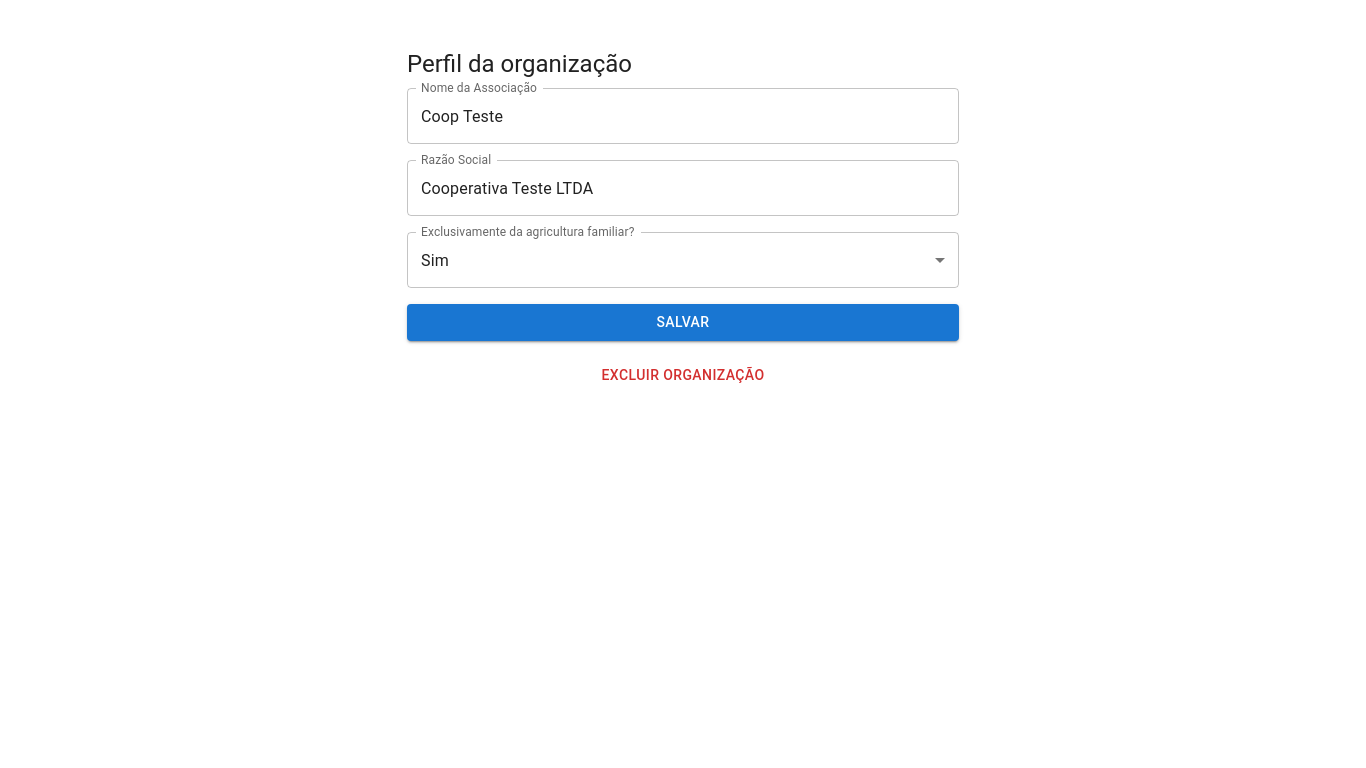
Test: OrganizacaoPerfilPage › mostra um erro quando falha ao excluir o perfil, sem navegar
Expected: the field showing "Coop Teste" is shown, x1=407 y1=88 x2=959 y2=144
Click the button "Excluir organização": (683, 375) x1=407 y1=357 x2=959 y2=393
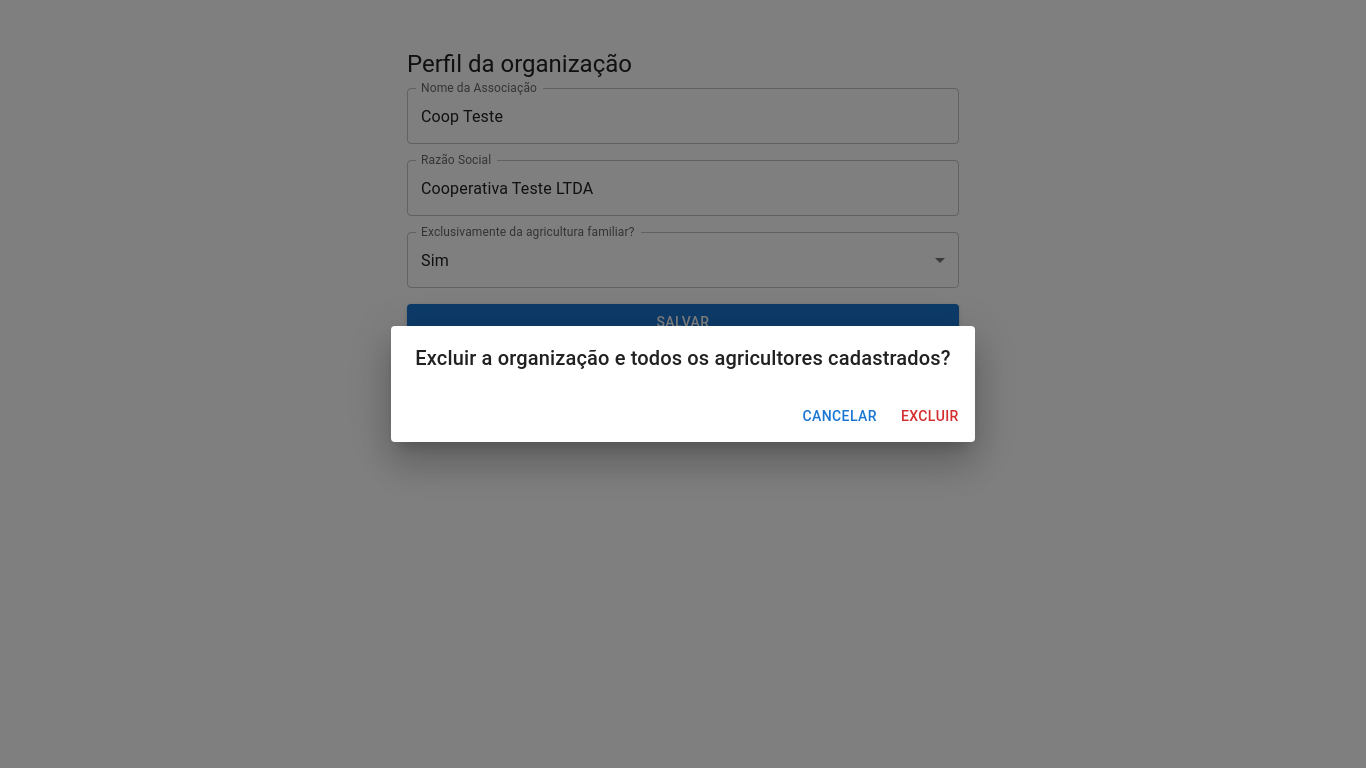
Click the button "Excluir": (930, 416) x1=893 y1=398 x2=967 y2=434
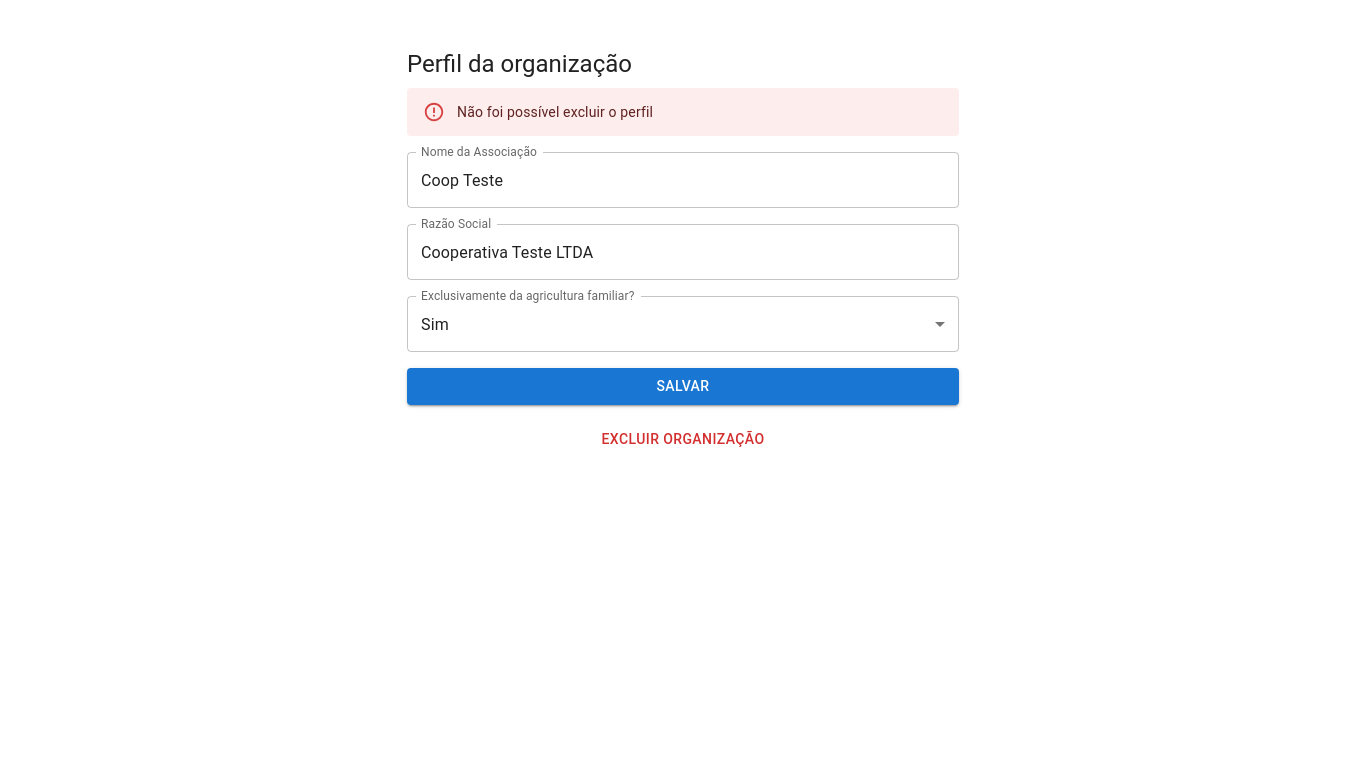
Now the text "Não foi possível excluir o perfil" is shown, box x1=457 y1=104 x2=653 y2=120
